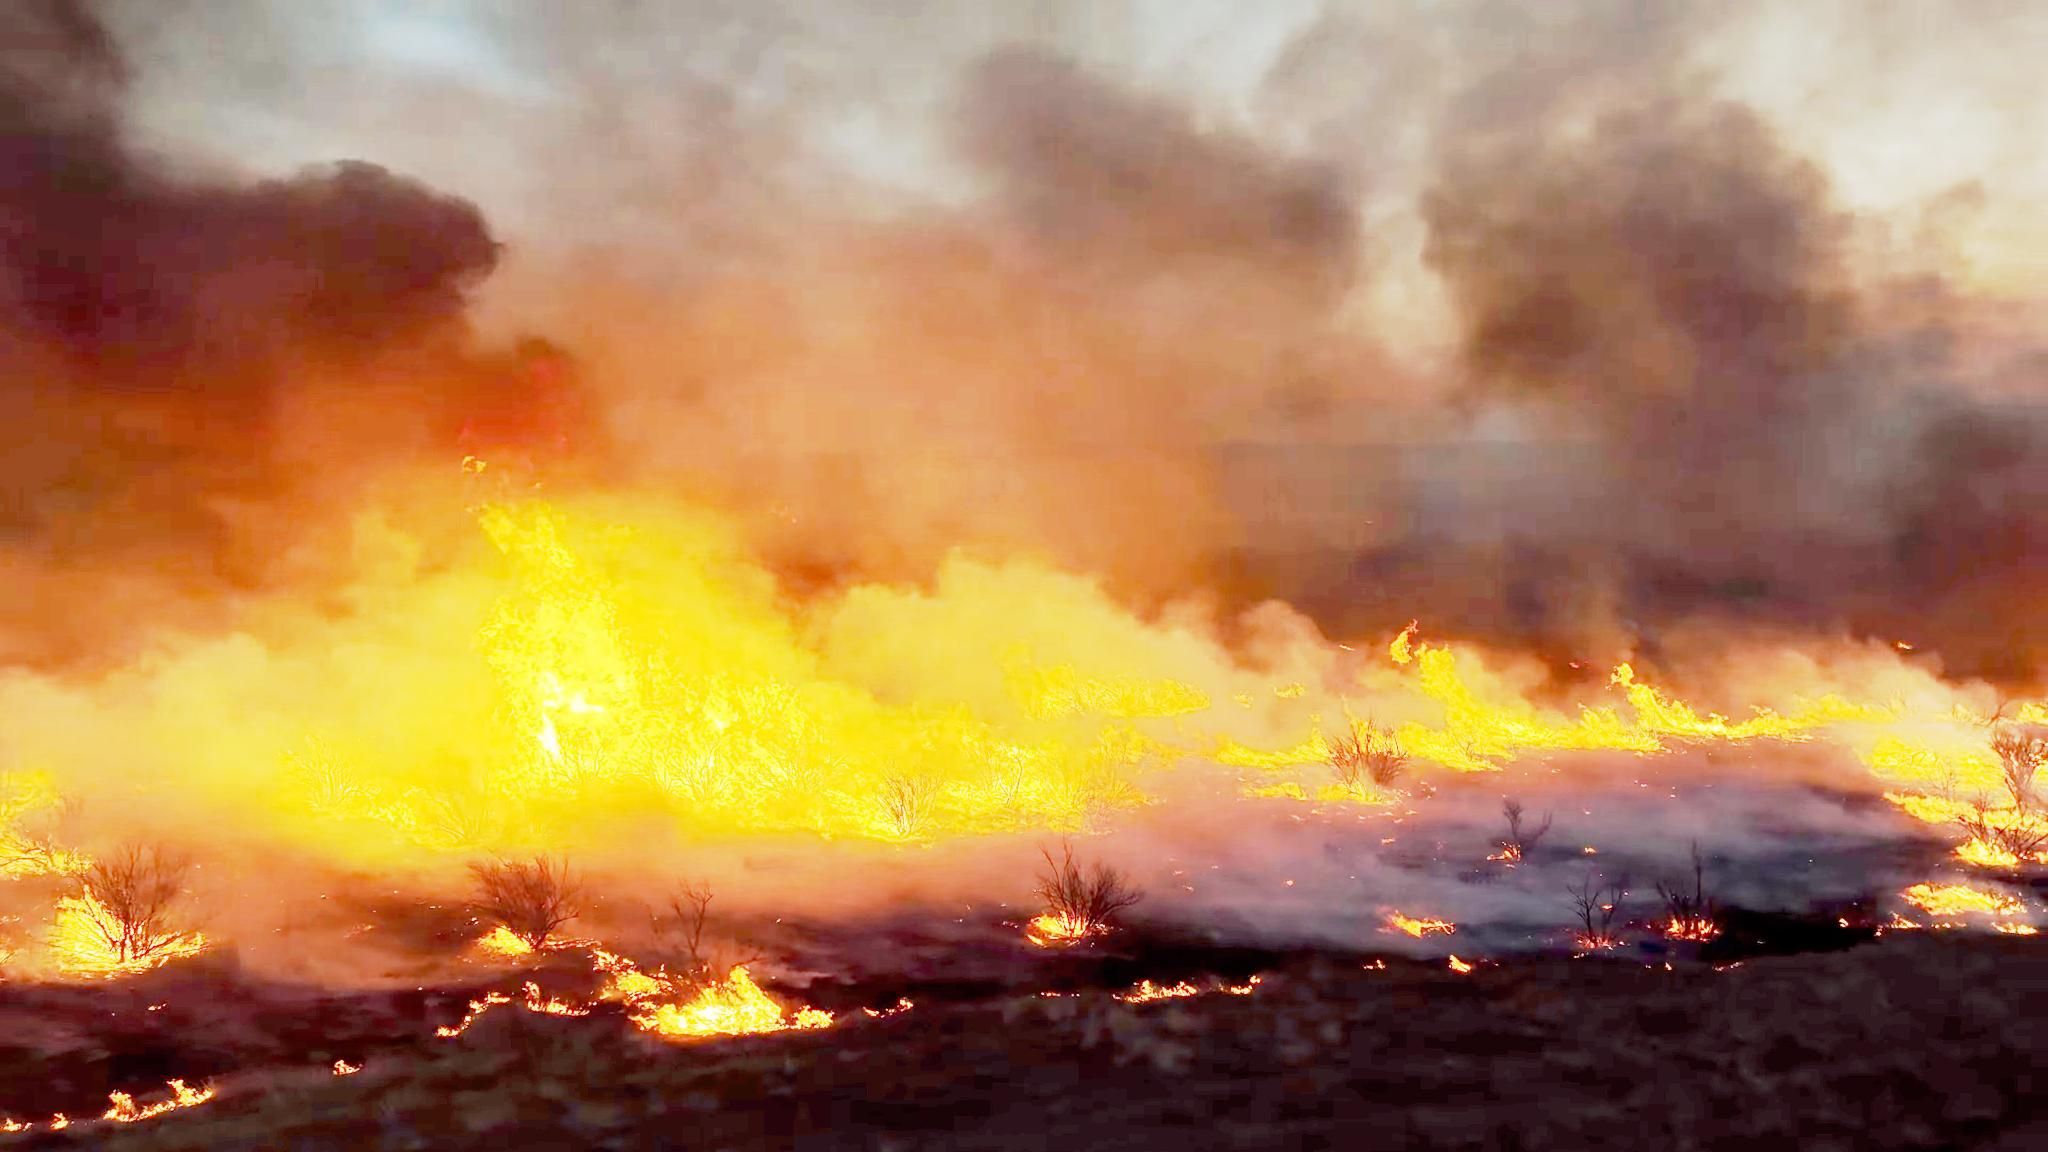fire: (449, 550, 657, 798), (667, 601, 827, 796), (0, 783, 156, 973), (1383, 648, 1630, 765), (1864, 684, 2040, 817), (934, 726, 1059, 820), (672, 958, 819, 1034)
smoke: (1436, 23, 2048, 570), (0, 0, 453, 526), (838, 222, 1336, 661)
